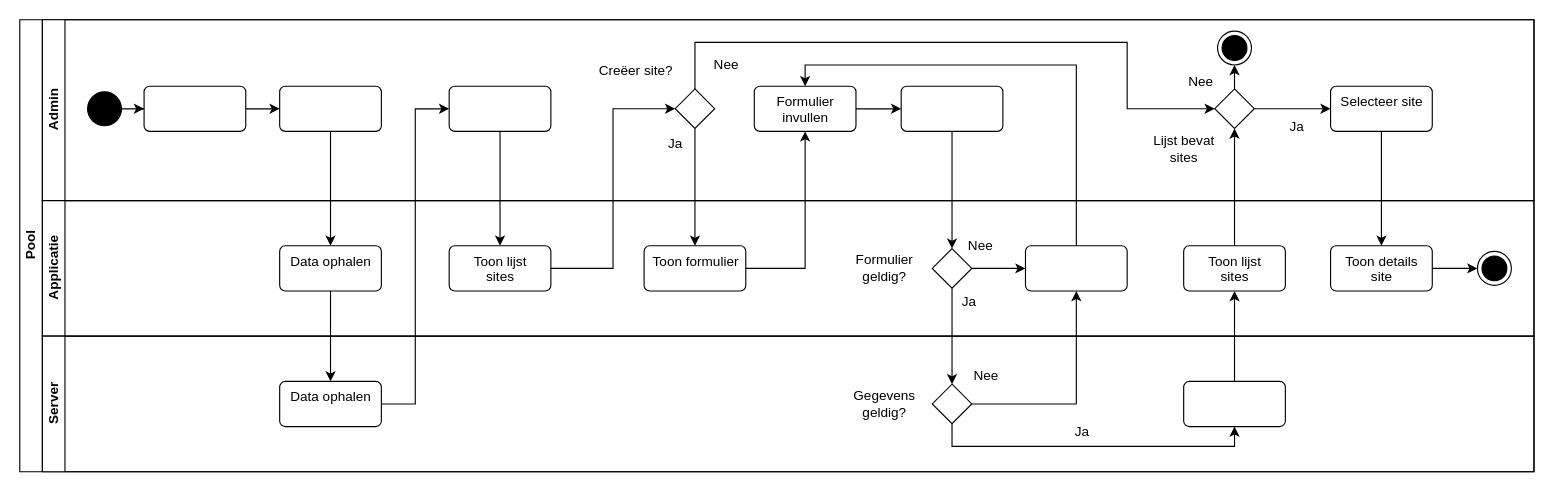
Image size: 1554x492. Some labels were removed from this diagram. Each missing label, with the centre of its shape:
<<external>> Meld aan: (330,108)
Bekijk lijst sites: (499,108)
Formulier versturen: (951,108)
Site aanmaken: (1234,403)
Start applicatie: (194,108)
Toon foutmelding(en): (1075,268)
